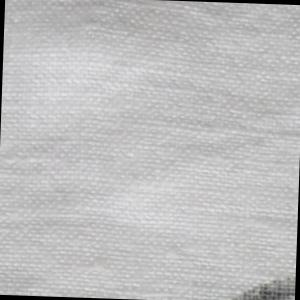Stain: (223, 275, 296, 300)
